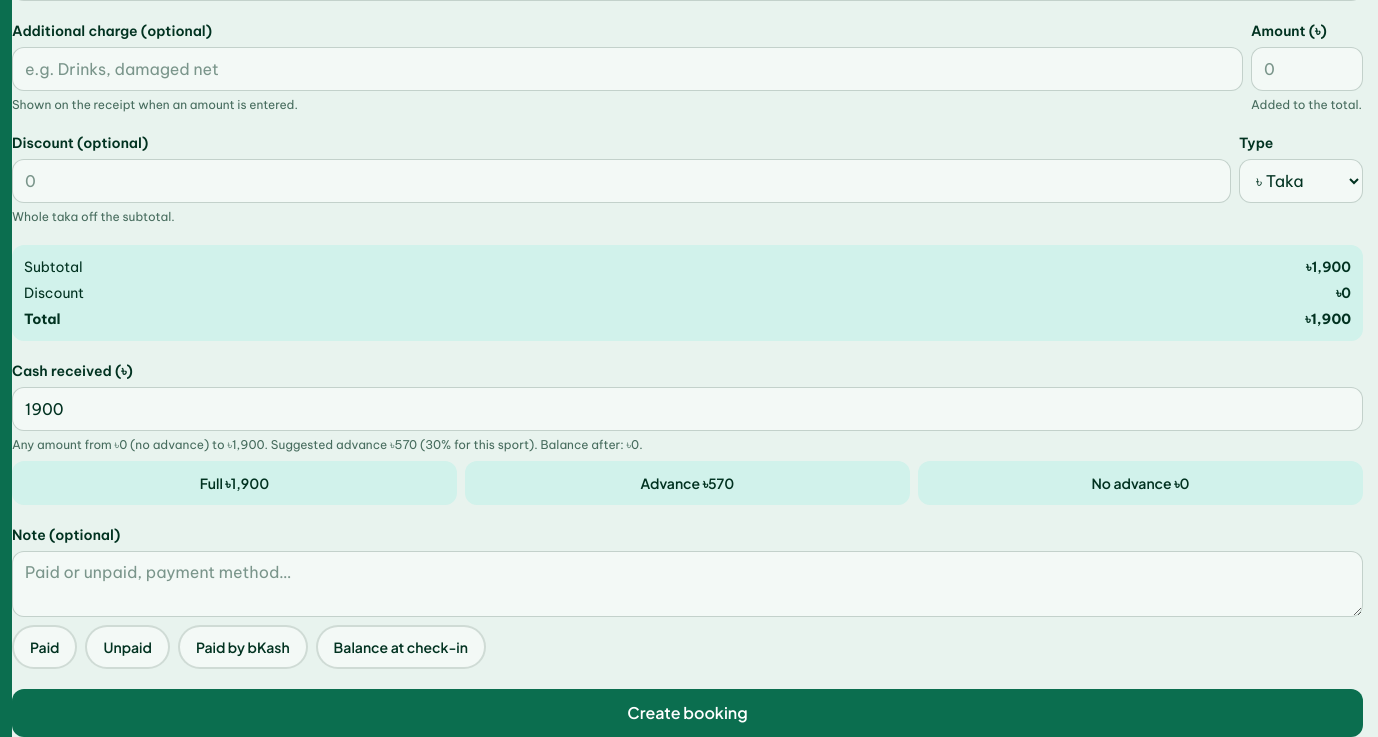
WalkInForm note › typed text stays when a pick is added
(page scrolled)
Expected: the button "Full ৳1,900" is shown, left=12, top=461, right=457, bottom=505
In the text box labelled "Note (optional)": (688, 584) left=12, top=551, right=1363, bottom=617, type "Team Falcons"
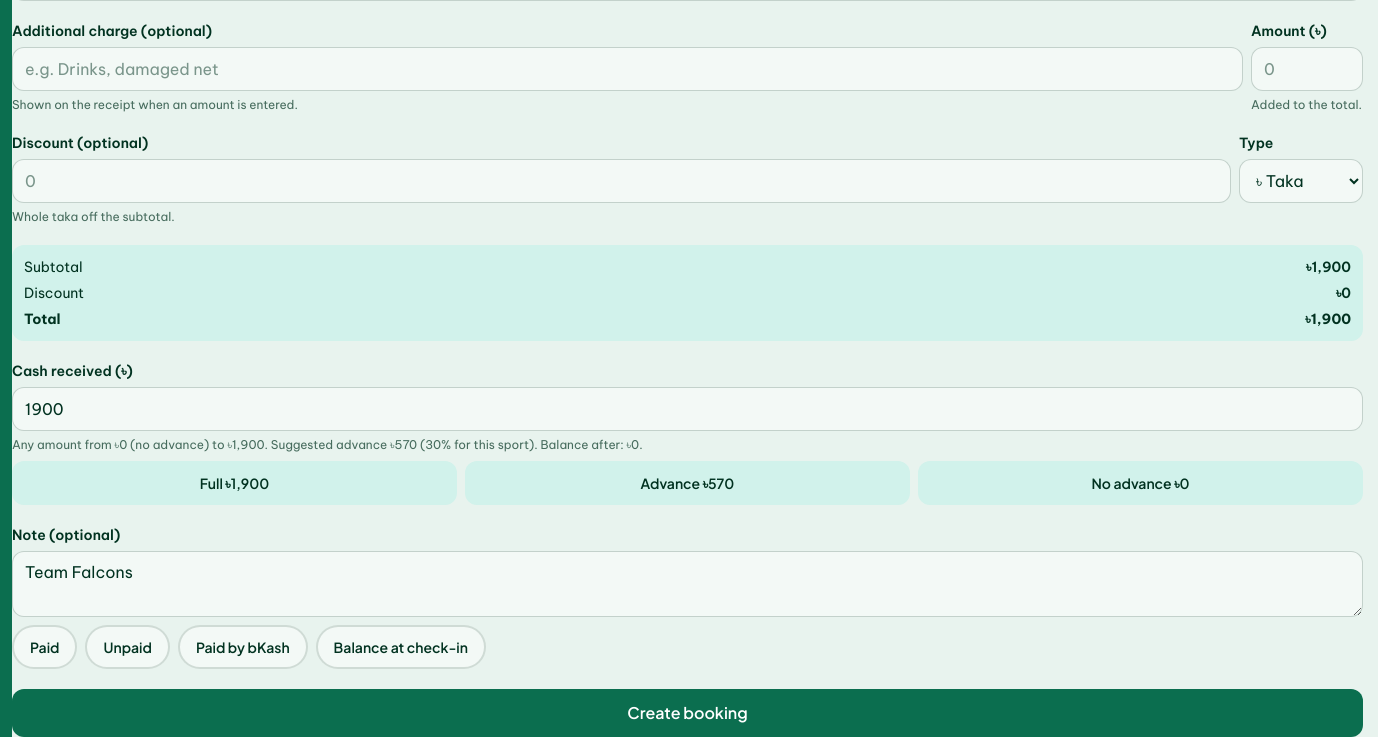
Click the button "Balance at check-in": (401, 647) left=316, top=625, right=486, bottom=669
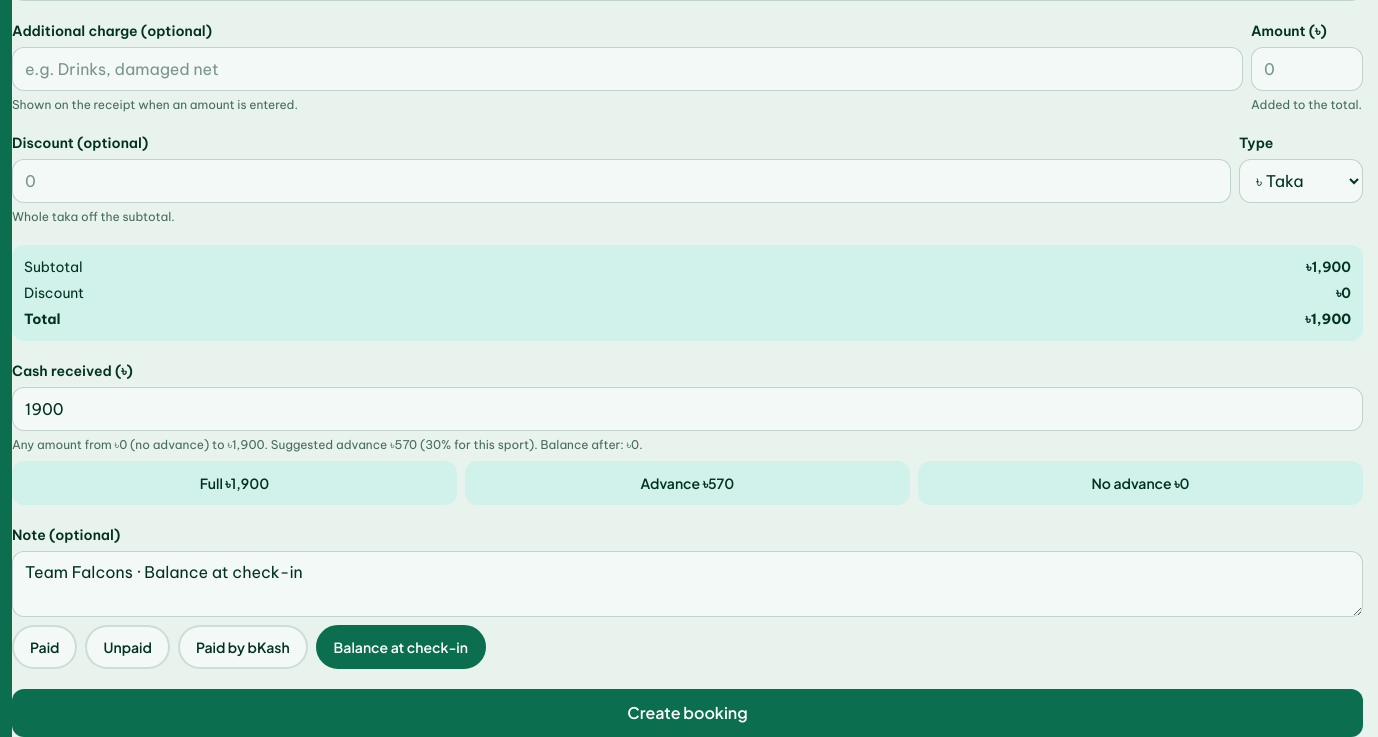
Now the text box labelled "Note (optional)" holds "Team Falcons · Balance at check-in", box left=12, top=551, right=1363, bottom=617
